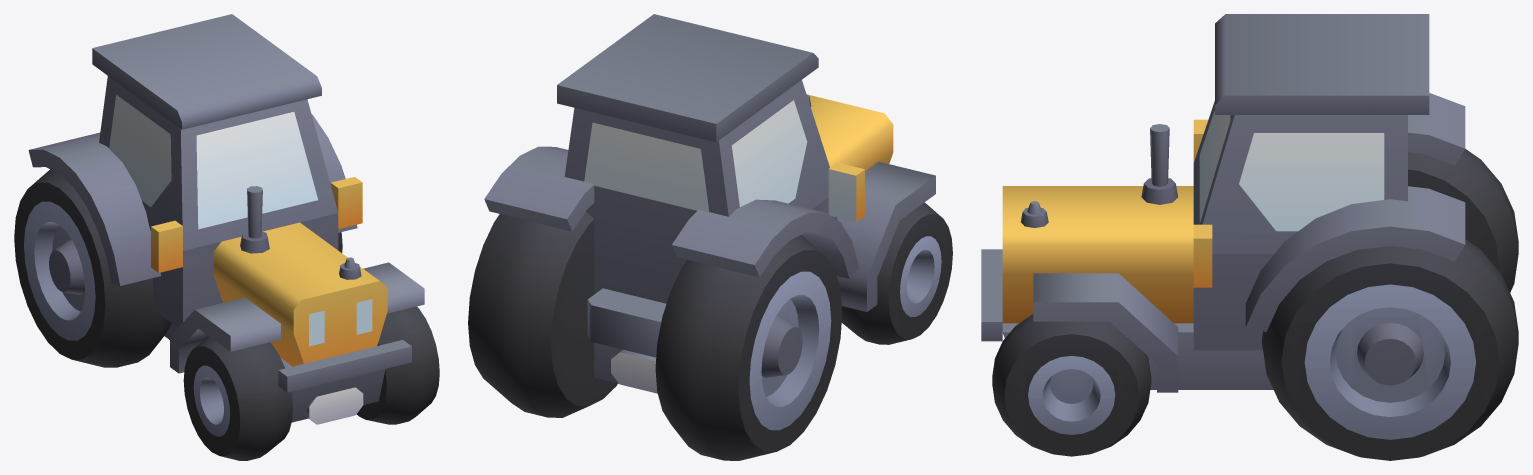
The model's file is traktor.glb.
3 renders of one model, left to right at view 1: azimuth 30°, elevation 25°; view 2: azimuth 150°, elevation 25°; view 3: azimuth 270°, elevation 25°, orthographic. The views are drawn at different scales.
Visible parts, largest first — view 1: body, wheel-back-right, wheel-front-right, wheel-front-left; view 2: body, wheel-back-right, wheel-back-left, wheel-front-right; view 3: body, wheel-back-left, wheel-front-left, wheel-back-right.
Part boxes in pixels (x1=…): body: x1=28, y1=14, x2=424, y2=424; wheel-back-right: x1=14, y1=169, x2=171, y2=367; wheel-front-right: x1=183, y1=336, x2=292, y2=460; wheel-front-left: x1=356, y1=306, x2=439, y2=424; body: x1=484, y1=14, x2=935, y2=393; wheel-back-right: x1=655, y1=235, x2=842, y2=460; wheel-back-left: x1=468, y1=211, x2=617, y2=417; wheel-front-right: x1=841, y1=202, x2=952, y2=344; body: x1=981, y1=14, x2=1465, y2=392; wheel-back-left: x1=1262, y1=239, x2=1518, y2=460; wheel-front-left: x1=992, y1=314, x2=1151, y2=456; wheel-back-right: x1=1408, y1=149, x2=1518, y2=292.
Size of the model in its own units: 1.34 by 1.6 by 2.2.
Materials: 1 (1 with a texture image).
